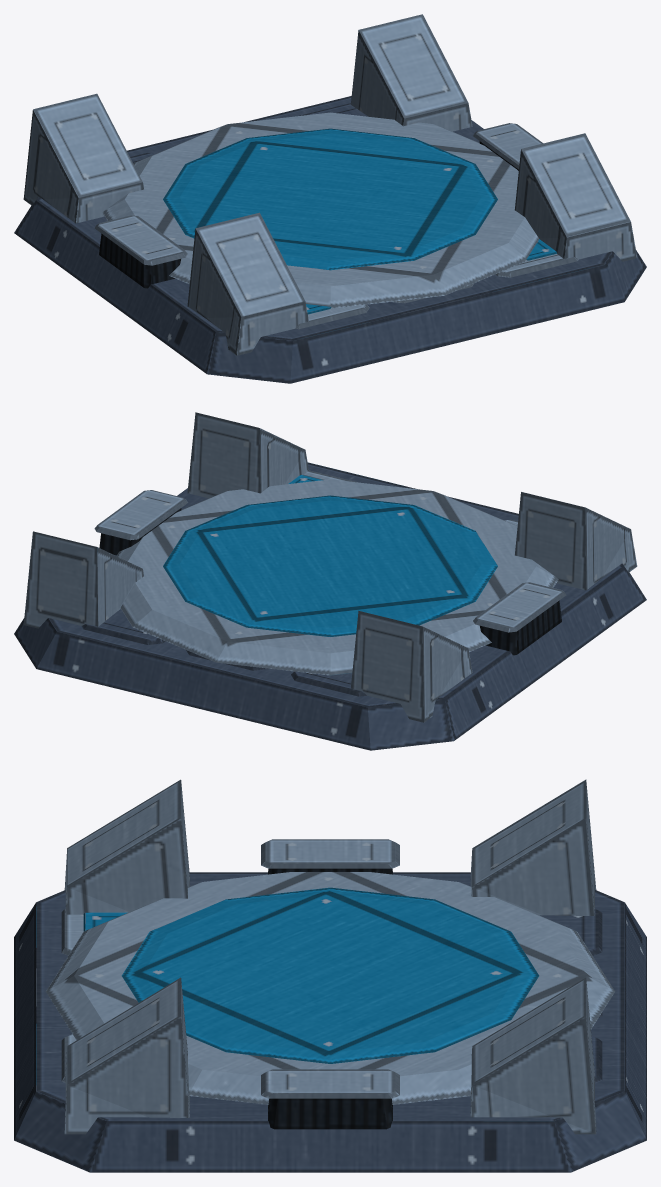
Rendered from building-helipad.fbx.
3 renders of one model, top to bottom at view 1: azimuth 30°, elevation 25°; view 2: azimuth 150°, elevation 25°; view 3: azimuth 270°, elevation 25°, orthographic. The views are drawn at different scales.
Parts seen in each view (by area): view 1: building-helipad; view 2: building-helipad; view 3: building-helipad.
Boxes of the visible parts, x1,y1,x2,y2 form: building-helipad: [14, 14, 646, 383]; building-helipad: [14, 412, 646, 750]; building-helipad: [14, 779, 646, 1172].
Size of the model in its own units: 2184 by 537 by 2184.
Materials: 1 (1 with a texture image).
